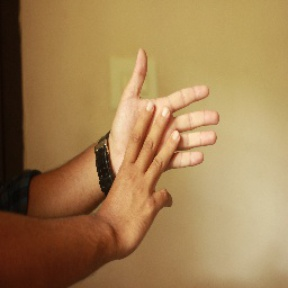M: (88, 44, 223, 226)
